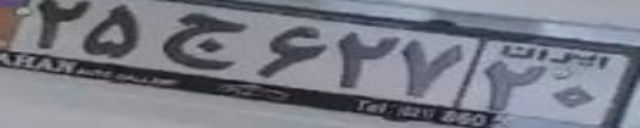0: (548, 85, 594, 109)
2: (336, 32, 398, 89), (481, 59, 543, 111), (35, 0, 87, 48)
5: (83, 3, 136, 59)
6: (256, 25, 326, 79)
7: (400, 36, 461, 98)
jim: (159, 12, 237, 70)
